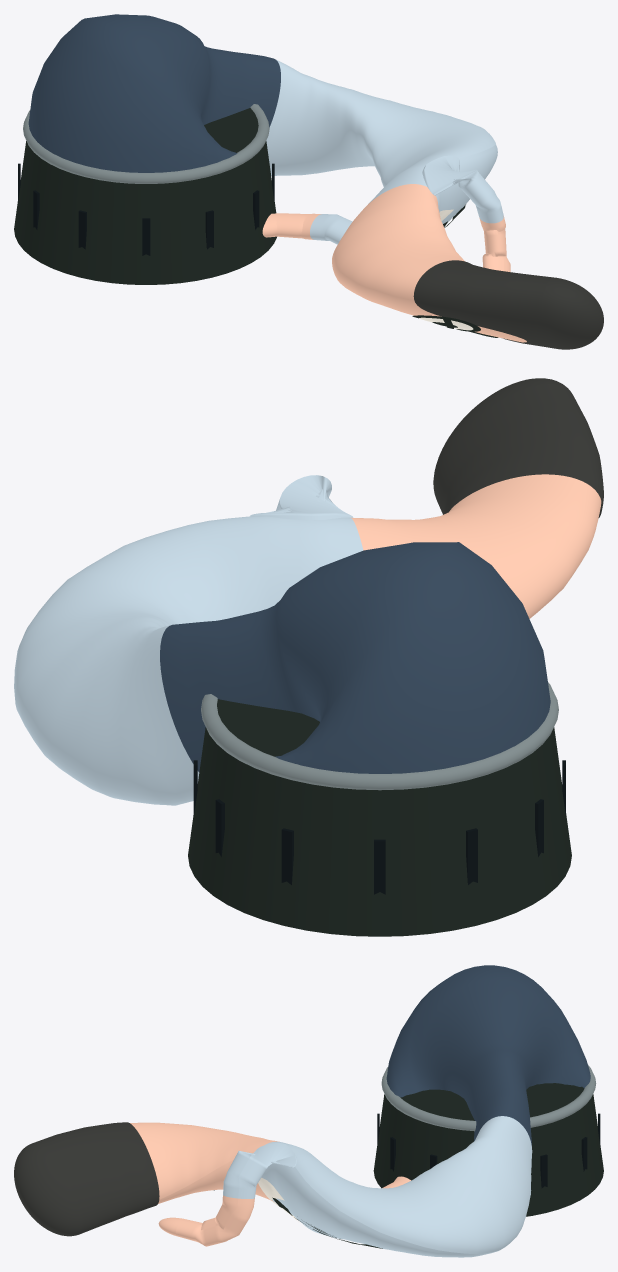
Rendered from air-dancer-none.glb.
The picture shows the model from 3 angles, top to bottom: view 1: azimuth 30°, elevation 25°; view 2: azimuth 150°, elevation 25°; view 3: azimuth 270°, elevation 25°; orthographic projection. The views are drawn at different scales.
Parts seen in each view (by area): view 1: Trousers, Blower, Shirt, Skin, Hair, Air_Dancer, Face_ink; view 2: Trousers, Blower, Shirt, Skin, Hair, Air_Dancer; view 3: Shirt, Trousers, Blower, Hair, Skin, Air_Dancer.
Part boxes in pixels (box(x1,y1,x2,y2)): Trousers: box(28, 14, 280, 172); Blower: box(14, 108, 276, 284); Shirt: box(266, 60, 503, 244); Skin: box(262, 184, 526, 342); Hair: box(413, 260, 603, 349); Air_Dancer: box(18, 104, 274, 255); Face_ink: box(412, 204, 498, 337); Trousers: box(160, 542, 550, 773); Blower: box(188, 699, 571, 936); Shirt: box(14, 475, 363, 805); Skin: box(351, 474, 601, 618); Hair: box(433, 378, 603, 517); Air_Dancer: box(193, 682, 565, 894); Shirt: box(223, 1116, 532, 1257); Trousers: box(386, 965, 590, 1145); Blower: box(373, 1083, 603, 1216); Hair: box(14, 1122, 159, 1236); Skin: box(130, 1122, 410, 1246); Air_Dancer: box(377, 1065, 600, 1188).
Size of the model in its own units: 2.57 by 1.33 by 3.79.
